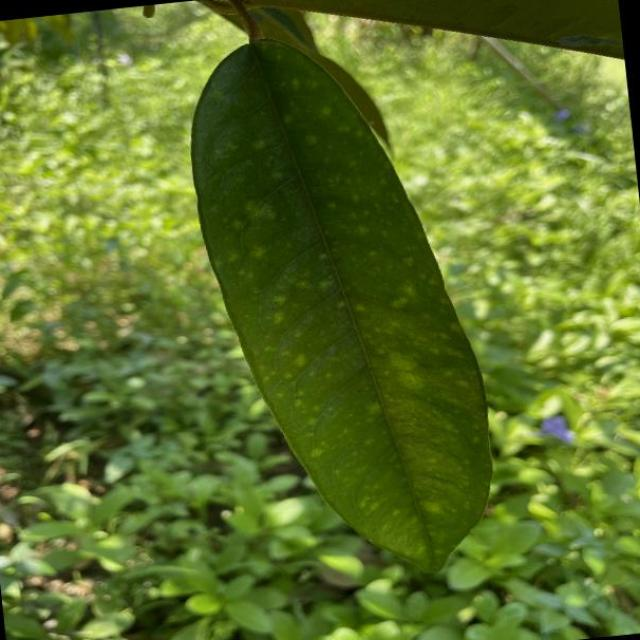Leaf Spot: (177, 18, 516, 604)
